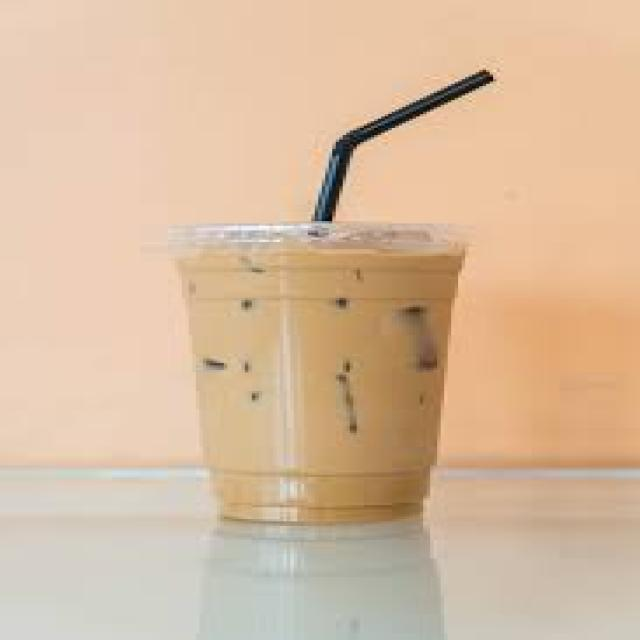bottle: (177, 246, 462, 522)
